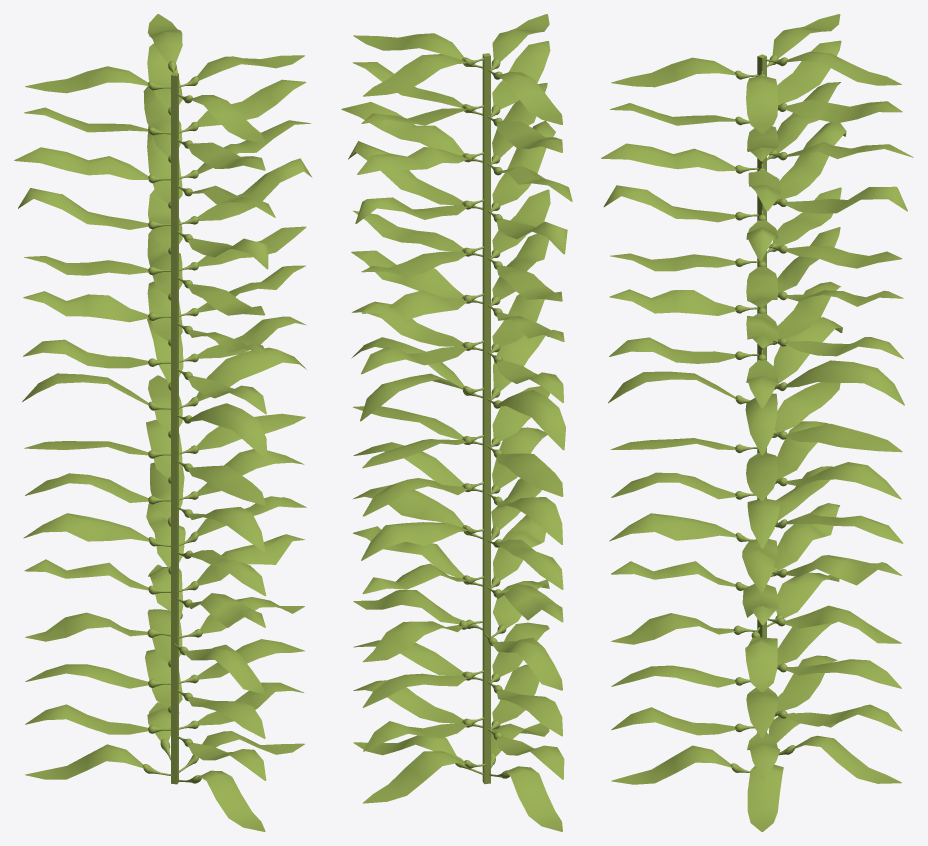
File: Leaf V2.fbx
3 views of the same model, side by side, from view 1: azimuth 30°, elevation 25°; view 2: azimuth 150°, elevation 25°; view 3: azimuth 270°, elevation 25° (orthographic). The views are drawn at different scales.
Visible parts, largest first — view 1: 구체.003; view 2: 구체.003; view 3: 구체.003.
Part boxes in pixels (<box>): 구체.003: <box>14,14,312,831</box>; 구체.003: <box>341,14,572,831</box>; 구체.003: <box>601,14,913,831</box>.
Bounding box in the file's own units: 382 × 1010 × 391.
